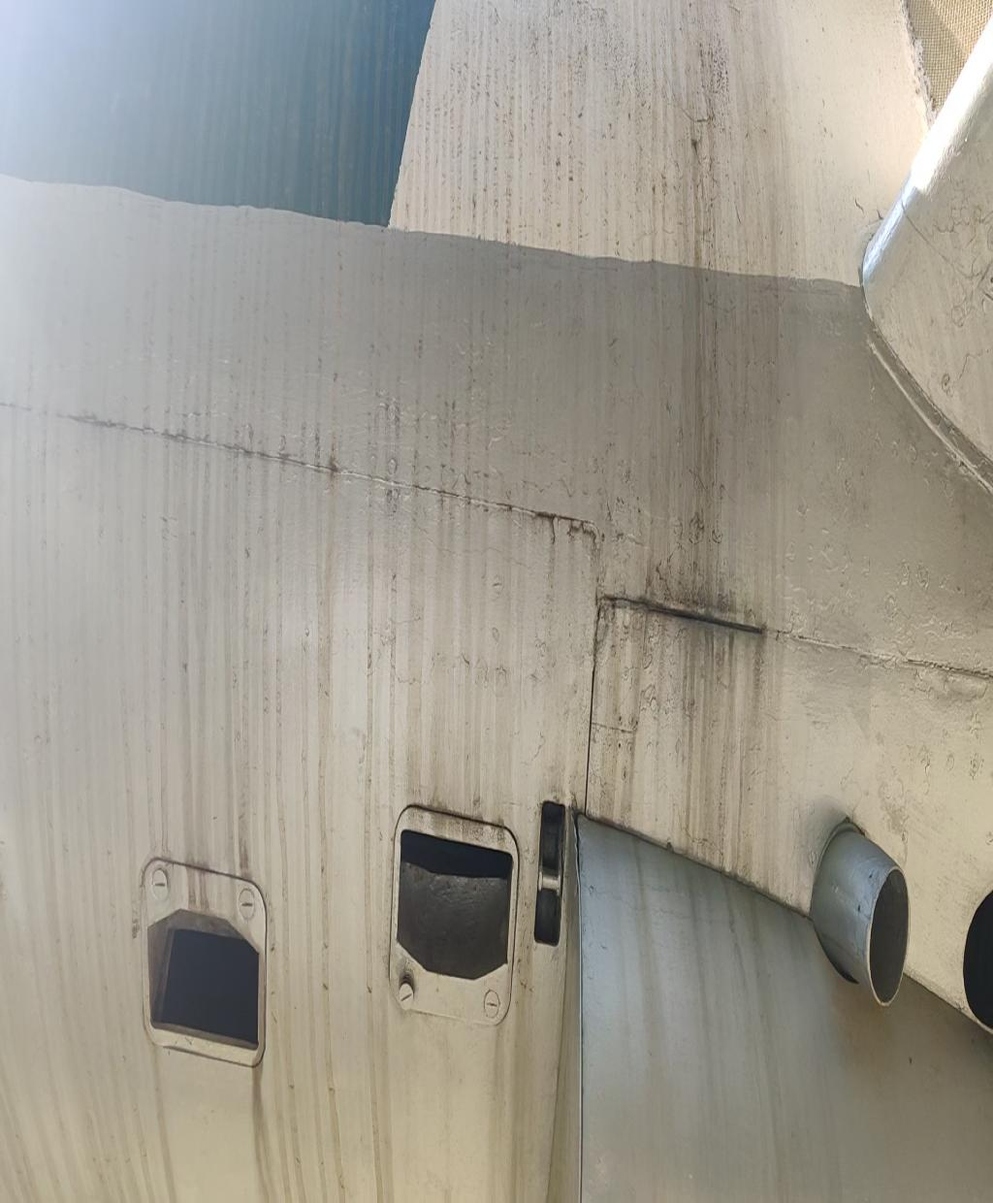crack: (536, 502, 573, 552)
